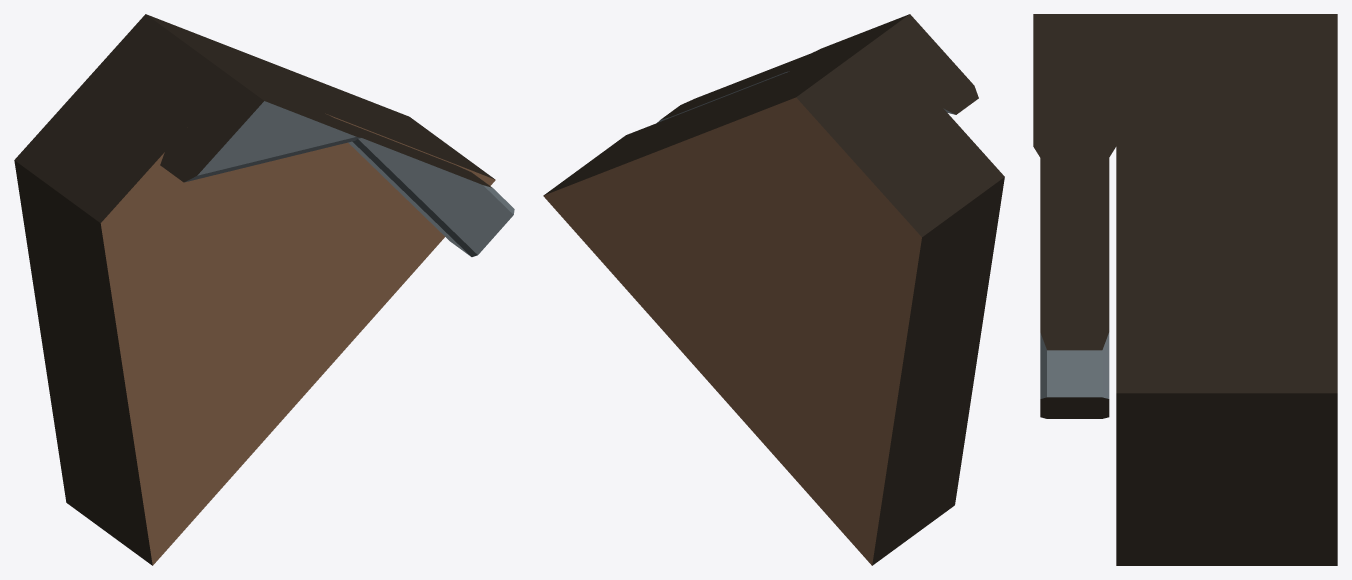
The model's file is SM_DoorShard_03_59.fbx.
3 views of the same model, side by side, from view 1: azimuth 30°, elevation 25°; view 2: azimuth 150°, elevation 25°; view 3: azimuth 270°, elevation 25° (orthographic). The views are drawn at different scales.
Visible parts, largest first — view 1: SM_DoorShard_03_59; view 2: SM_DoorShard_03_59; view 3: SM_DoorShard_03_59.
Part boxes in pixels (x1,y1,x2,y2): SM_DoorShard_03_59: (14, 14, 514, 565); SM_DoorShard_03_59: (543, 14, 1004, 565); SM_DoorShard_03_59: (1033, 14, 1337, 565).
Size of the model in its own units: 42.26 by 22 by 47.96.
